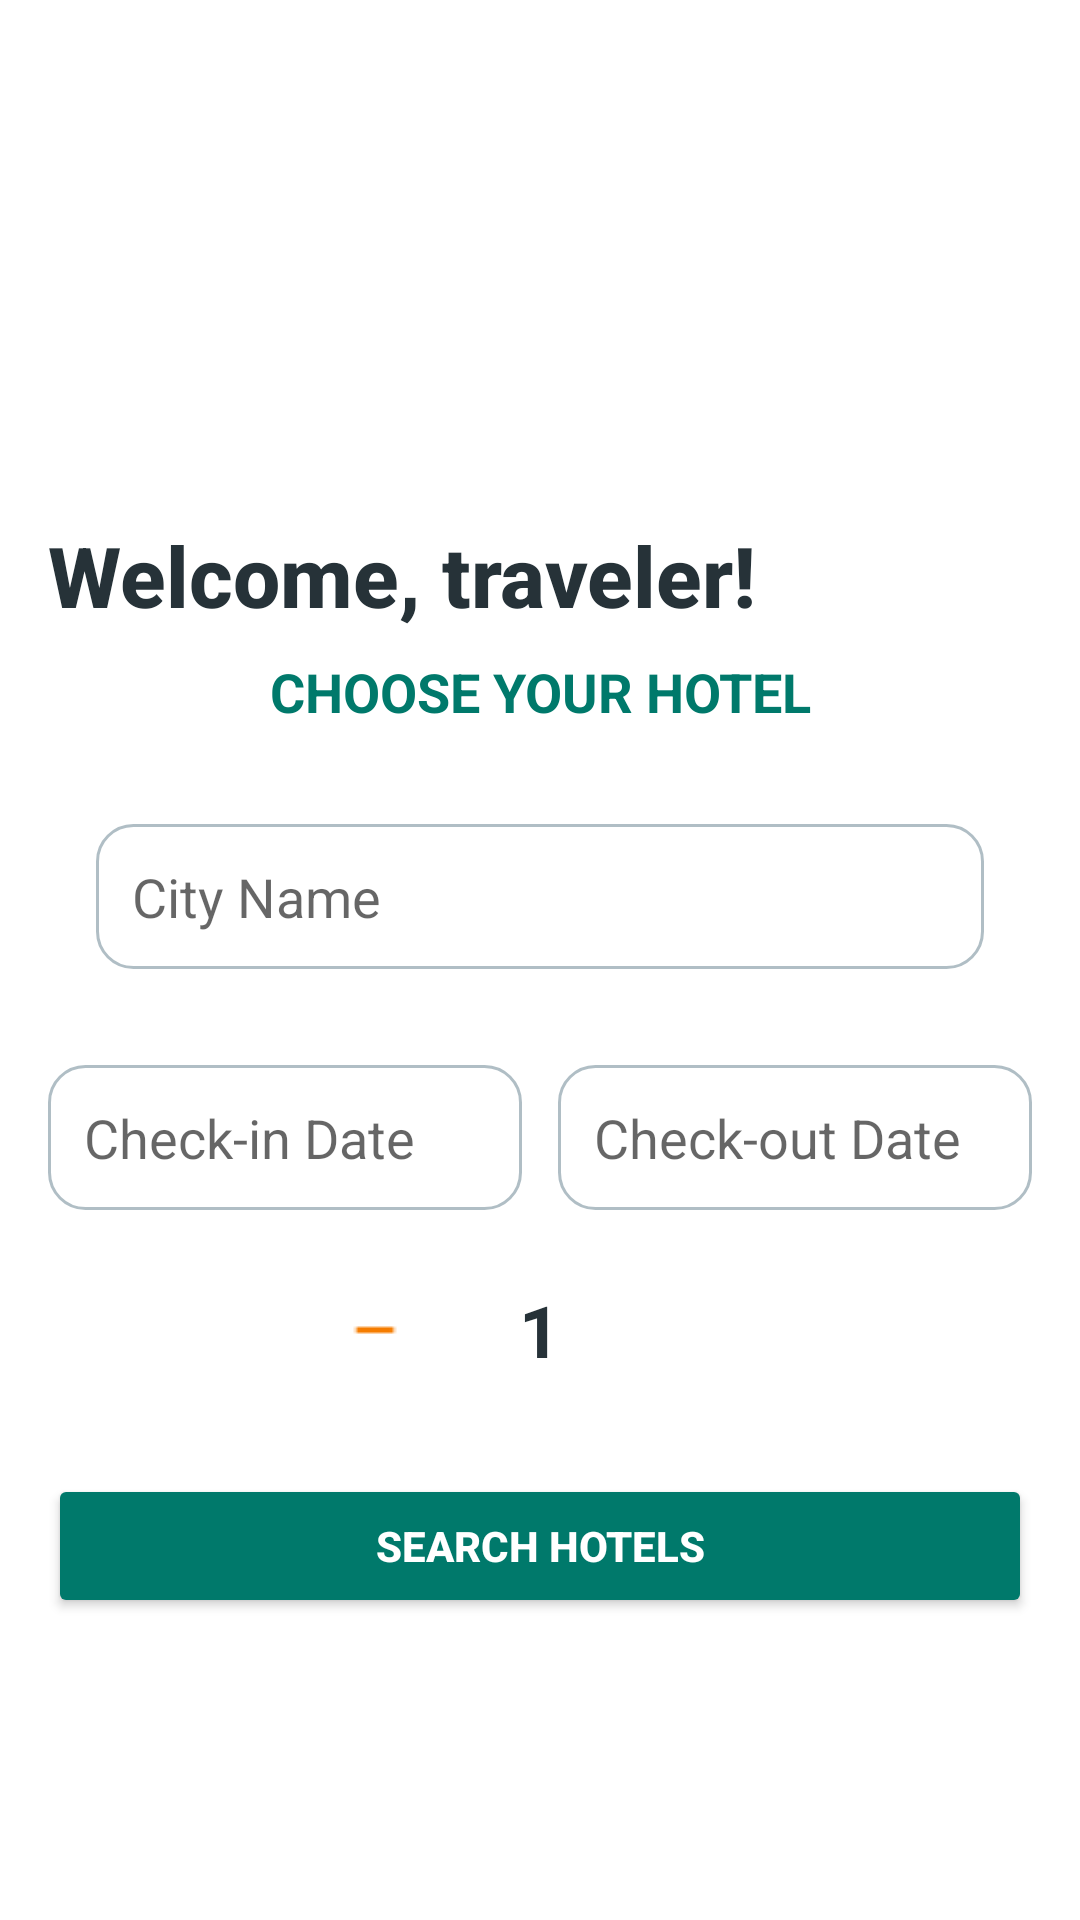

Named icons in this screenshot (1080w x 1920h) and their centers, [x,y]:
Decrease: [375,1330]
